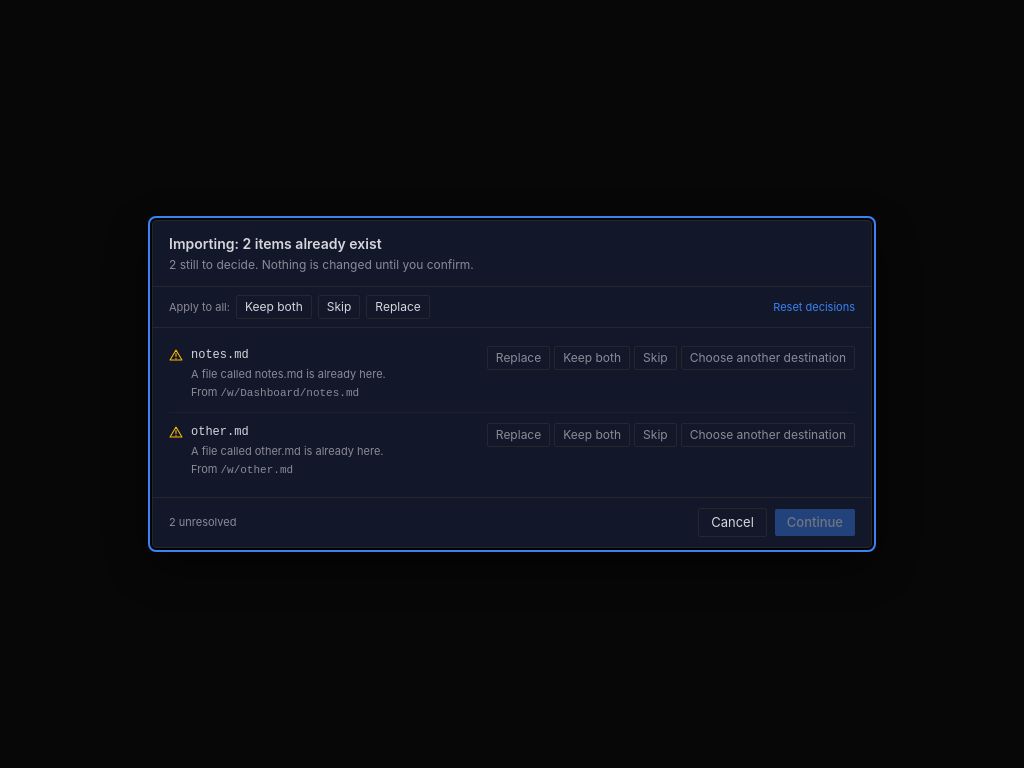
Test: previewing before confirming › says when the folder does not exist yet and will be created
The image size is (1024, 768).
Click the button with aria-label "Choose another destination for notes.md".
click(768, 358)  # box [681,346,855,370]
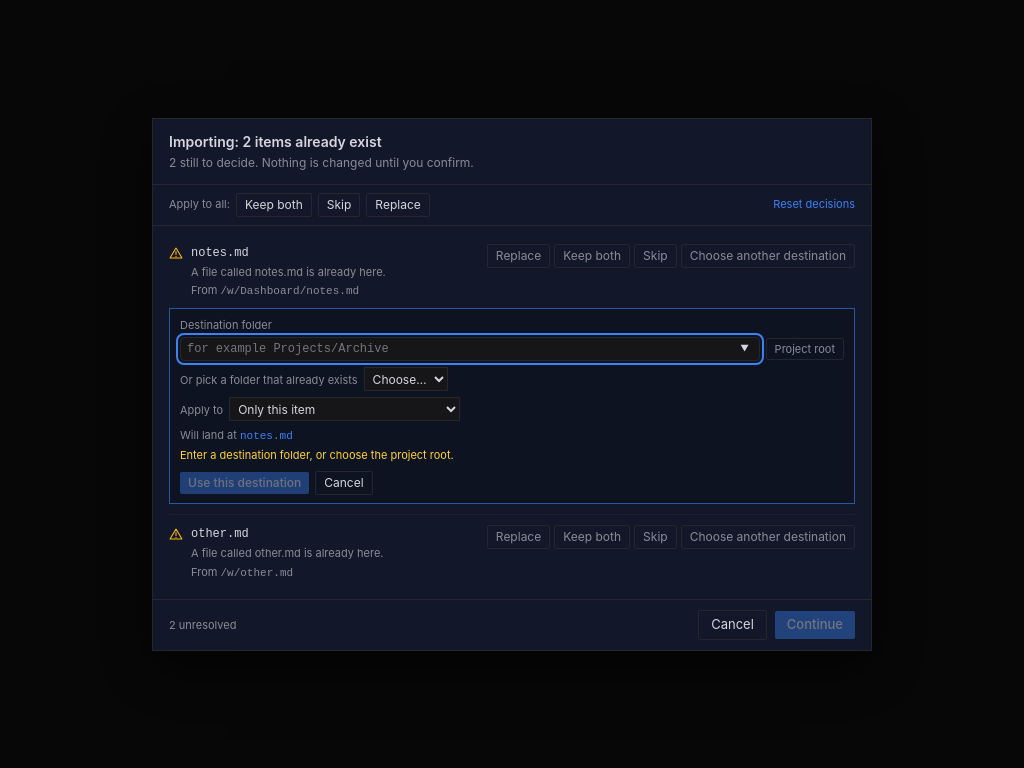
Type "BrandNew" into the field labelled "Destination folder".
click(470, 349); type("BrandNew")  # box [180,337,760,361]
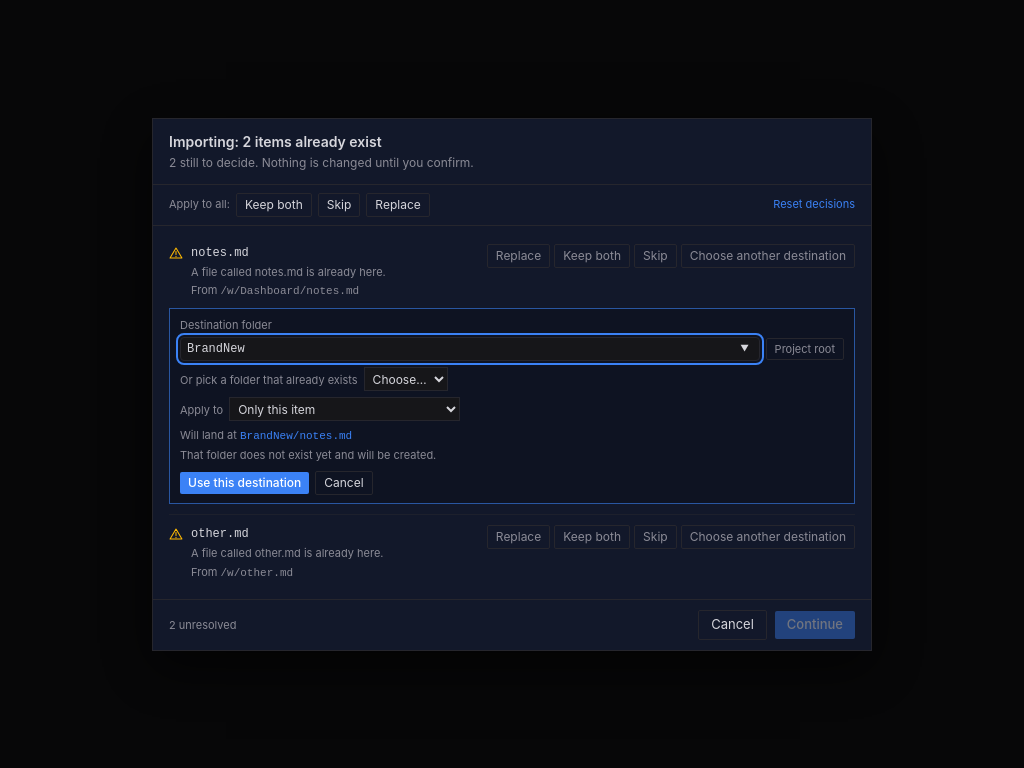
Check: the text "That folder does not exist yet and will be created." is shown, box [180,448,436,462]
